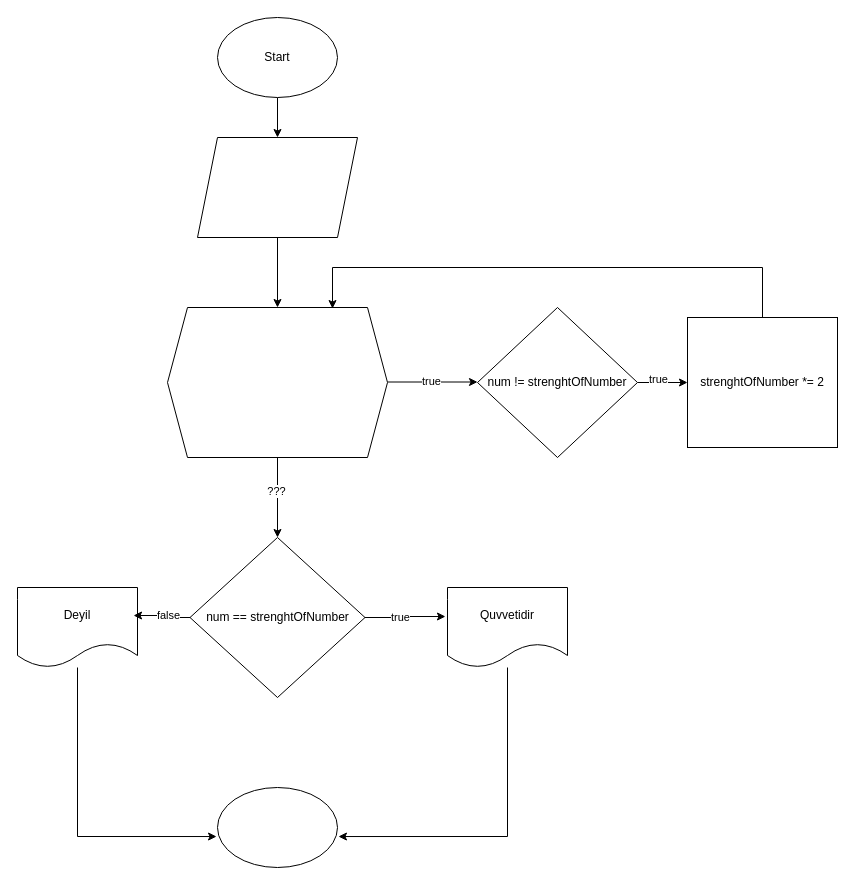
Some shapes in this 855 by 885 pixel diagram are drawn without their labels. The centre of each missing label's shape, as x and y in pixels:
"End" belongs at [277,827].
"int i = 0; i < num; i++" belongs at [277,382].
"int num int strenghtOfNumber = 1" belongs at [277,187].
